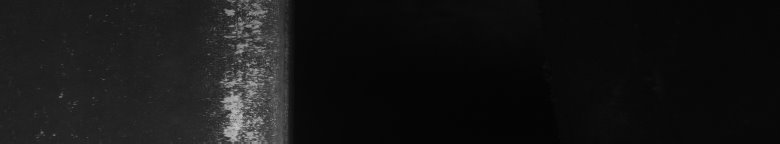kb: (224, 4, 276, 136)
